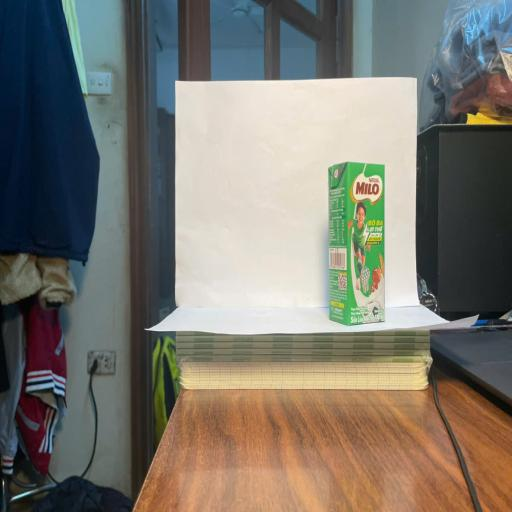milo: (328, 162, 385, 326)
